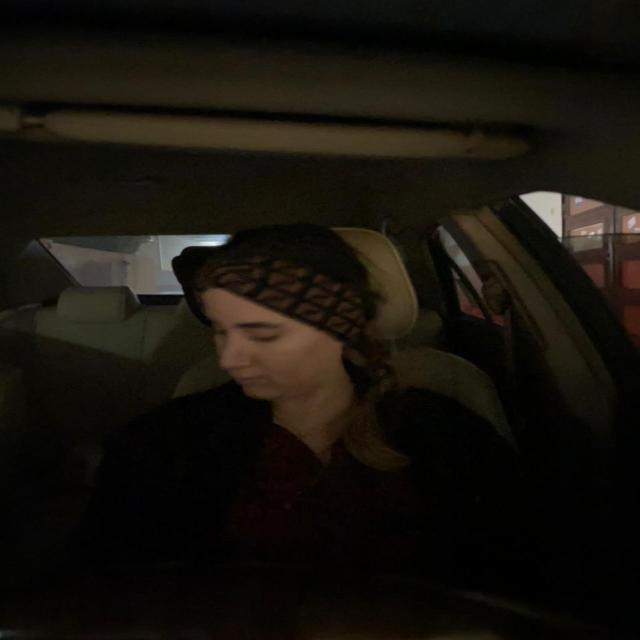drowsy: (190, 267, 366, 401)
